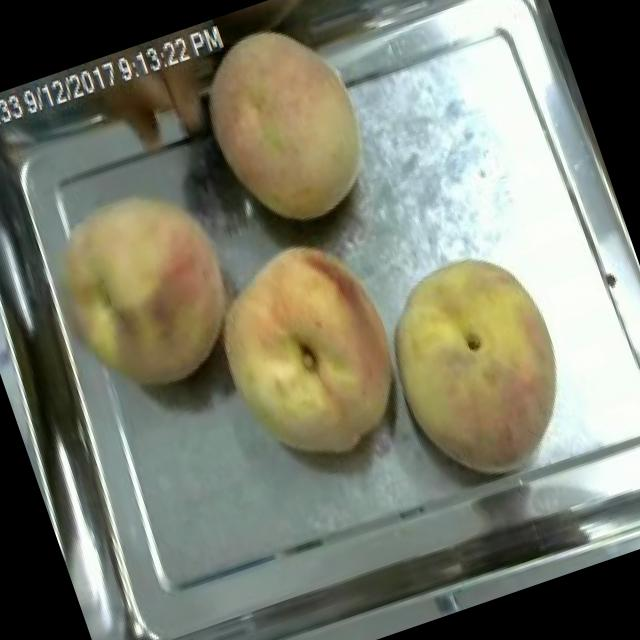Fruit: (182, 215, 431, 489), (11, 158, 266, 424), (359, 228, 600, 504), (171, 0, 397, 253)
